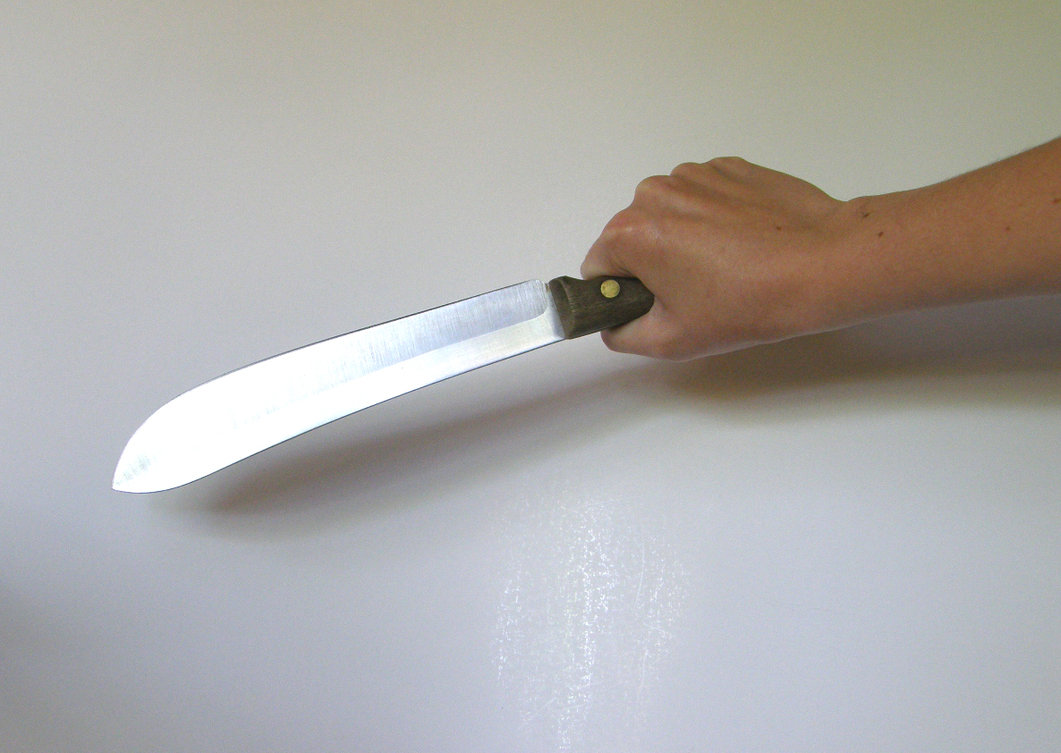knife: (72, 157, 706, 512)
